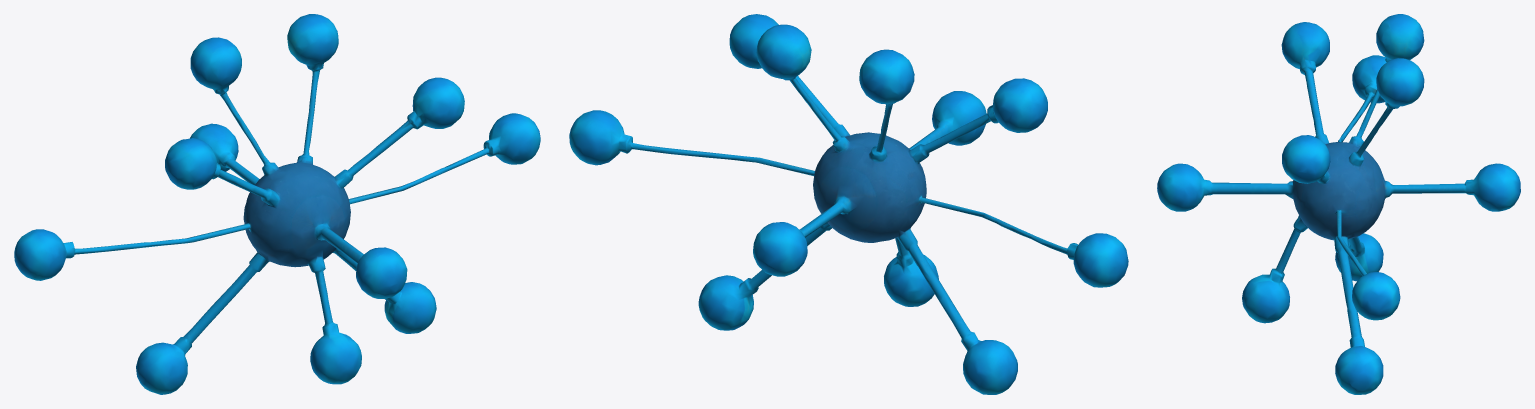
File: Prop_AminoAcid.glb
3 views of the same model, side by side, from view 1: azimuth 30°, elevation 25°; view 2: azimuth 150°, elevation 25°; view 3: azimuth 270°, elevation 25° (orthographic). The views are drawn at different scales.
Bounding box in the file's own units: 1.9 × 1.11 × 1.23.
Materials: 1 (1 with a texture image).
